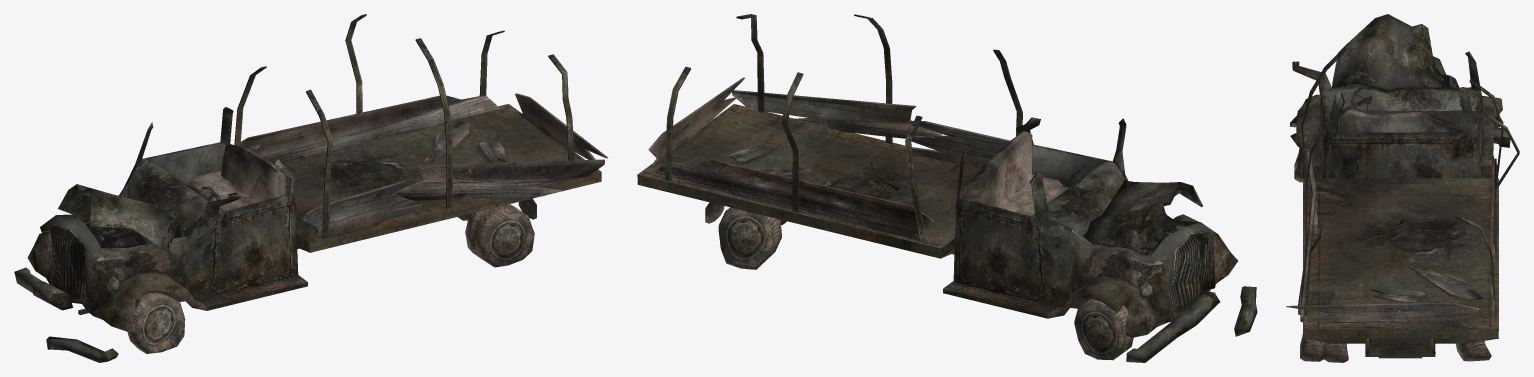
The model's file is SM_RustedTruck.glb.
3 renders of one model, left to right at view 1: azimuth 30°, elevation 25°; view 2: azimuth 150°, elevation 25°; view 3: azimuth 270°, elevation 25°, orthographic. The views are drawn at different scales.
Visible parts, largest first — view 1: SM_RustedTruck; view 2: SM_RustedTruck; view 3: SM_RustedTruck.
Boxes of the visible parts, x1,y1,x2,y2 form: SM_RustedTruck: (14, 14, 607, 362); SM_RustedTruck: (637, 14, 1257, 362); SM_RustedTruck: (1286, 14, 1519, 362).
Size of the model in its own units: 667 by 265 by 242.
1 material, 1 textured.
